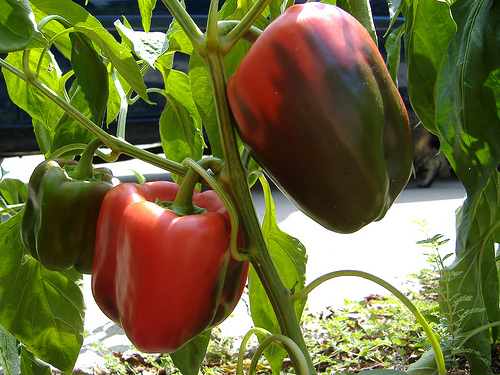capsicum: (89, 156, 251, 353)
